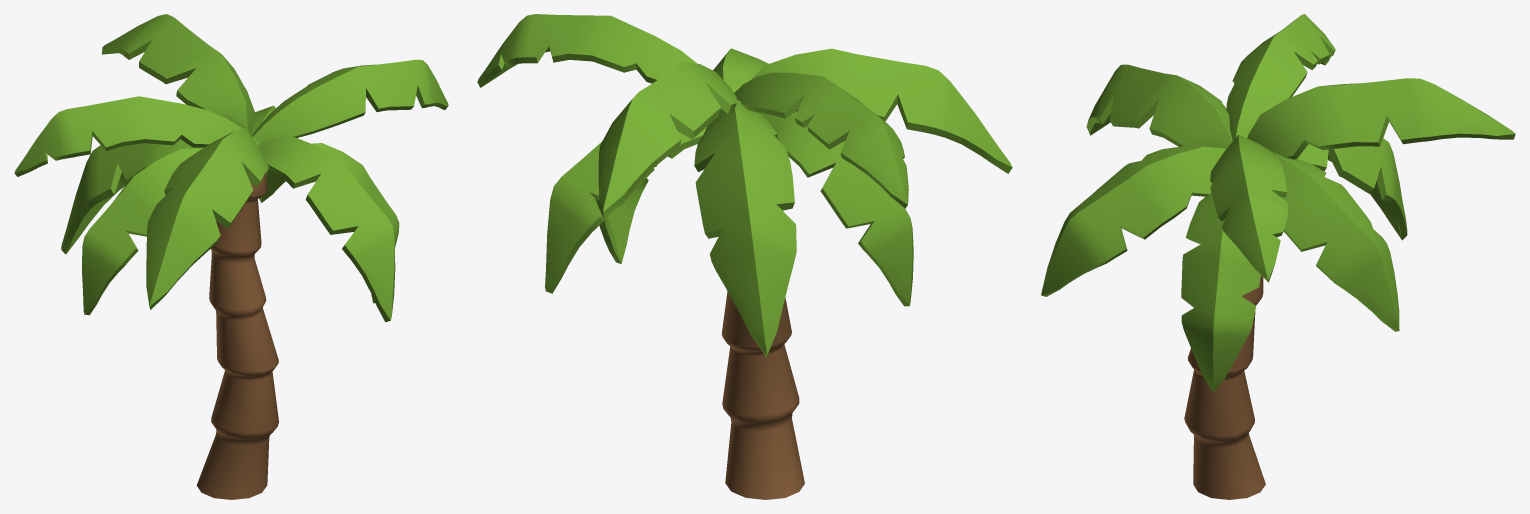
File: Environment_PalmTree_3.glb
3 renders of one model, left to right at view 1: azimuth 30°, elevation 25°; view 2: azimuth 150°, elevation 25°; view 3: azimuth 270°, elevation 25°, orthographic. The views are drawn at different scales.
Visible parts, largest first — view 1: Environment_PalmTree_3; view 2: Environment_PalmTree_3; view 3: Environment_PalmTree_3.
Boxes of the visible parts, <box> form: Environment_PalmTree_3: <box>14,14,448,499</box>; Environment_PalmTree_3: <box>477,14,1012,499</box>; Environment_PalmTree_3: <box>1041,14,1515,499</box>.
Bounding box in the file's own units: 2.86 × 2.69 × 2.75.
Materials: 1 (1 with a texture image).
